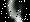person: (7, 1, 26, 22)
